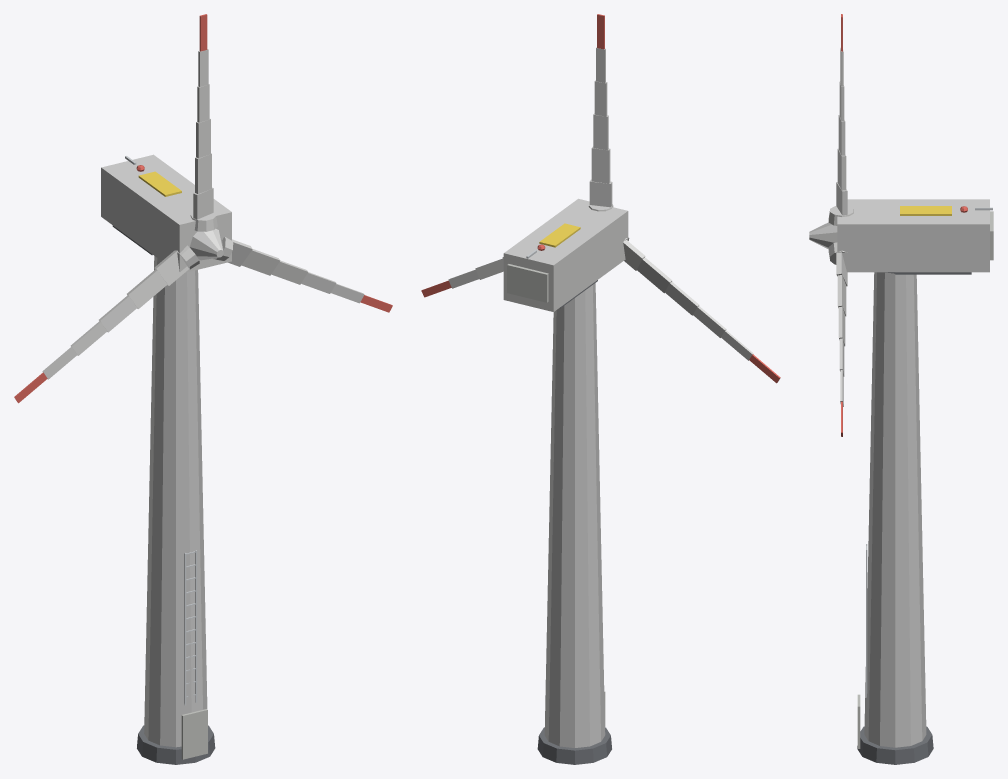
The model's file is wind-turbine.glb.
The picture shows the model from 3 angles, left to right: view 1: azimuth 30°, elevation 25°; view 2: azimuth 150°, elevation 25°; view 3: azimuth 270°, elevation 25°; orthographic projection. The views are drawn at different scales.
Visible parts, largest first — view 1: farm-scale-wind-turbine, rotor/white, rotor/red; view 2: farm-scale-wind-turbine, rotor/white, rotor/red; view 3: farm-scale-wind-turbine, rotor/white.
Part boxes in pixels (bbox=[...]): farm-scale-wind-turbine: bbox=[101, 154, 231, 764]; rotor/white: bbox=[42, 49, 364, 379]; rotor/red: bbox=[14, 14, 392, 403]; farm-scale-wind-turbine: bbox=[503, 198, 628, 764]; rotor/white: bbox=[448, 47, 753, 360]; rotor/red: bbox=[421, 14, 780, 383]; farm-scale-wind-turbine: bbox=[837, 199, 993, 764]; rotor/white: bbox=[809, 47, 853, 406].
Bounding box in the file's own units: 9.76 × 18.6 × 4.23.
